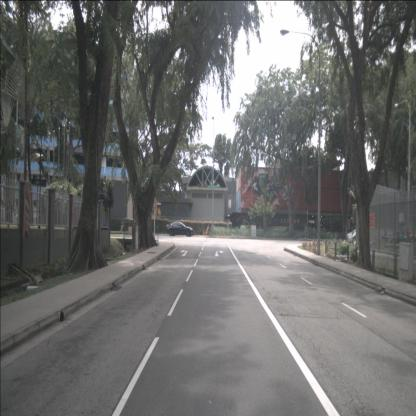vehicle-car: (346, 221, 385, 245), (166, 221, 194, 238)
